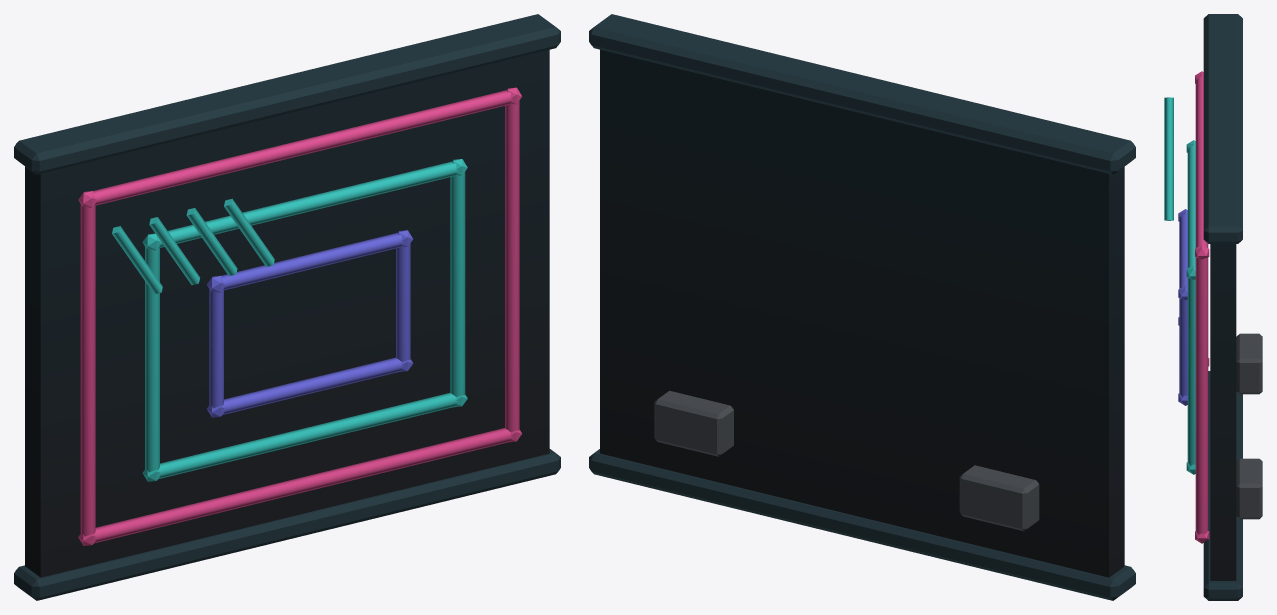
Rendered from club_neon_wall_panel.glb.
The picture shows the model from 3 angles, left to right: view 1: azimuth 30°, elevation 25°; view 2: azimuth 150°, elevation 25°; view 3: azimuth 270°, elevation 25°; orthographic projection. The views are drawn at different scales.
Visible parts, largest first — view 1: club_neon_wall_panel; view 2: club_neon_wall_panel; view 3: club_neon_wall_panel.
Boxes of the visible parts, x1,y1,x2,y2 form: club_neon_wall_panel: [14, 14, 560, 600]; club_neon_wall_panel: [589, 14, 1135, 600]; club_neon_wall_panel: [1164, 14, 1262, 600].
Size of the model in its own units: 3.12 by 2.52 by 0.6001.
